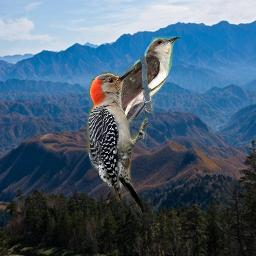Cuckoo: (99, 36, 180, 173)
Woodpecker: (82, 63, 148, 222)
